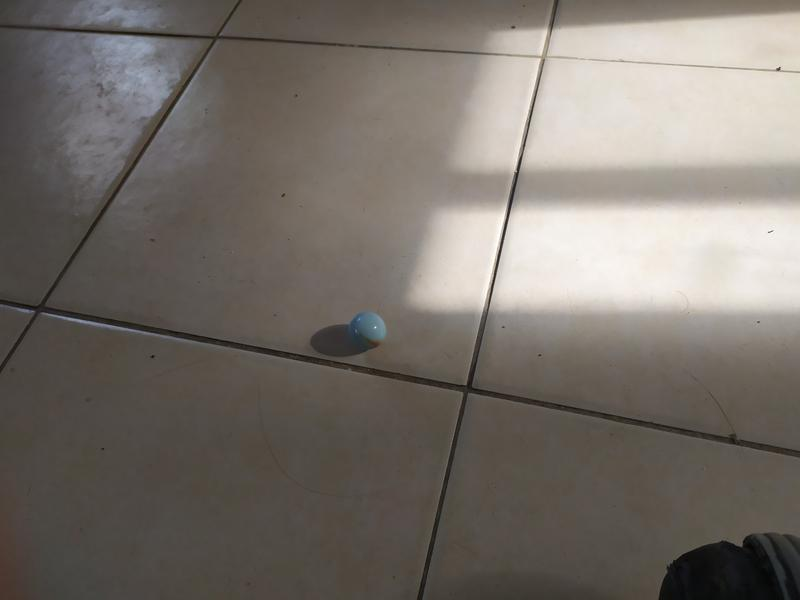Warning: (344, 308, 390, 352)
